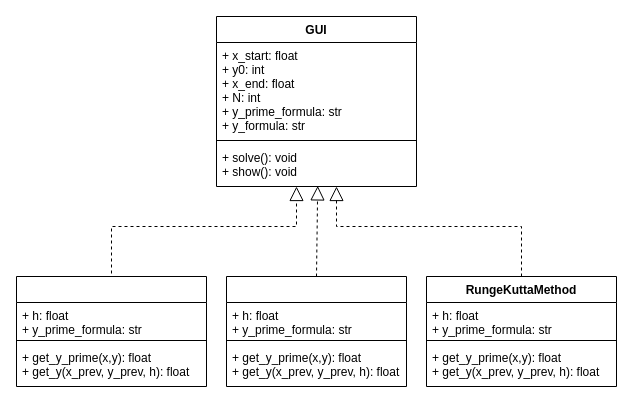
The diagram is 633 pixels wide and 403 high, and some of its shapes have lost their labels. Here are the shapes that lost their labels. From the top down, the box of each, then its label:
(16, 276, 206, 386): EulerMethod
(226, 276, 406, 386): ImprovedEulerMethod
